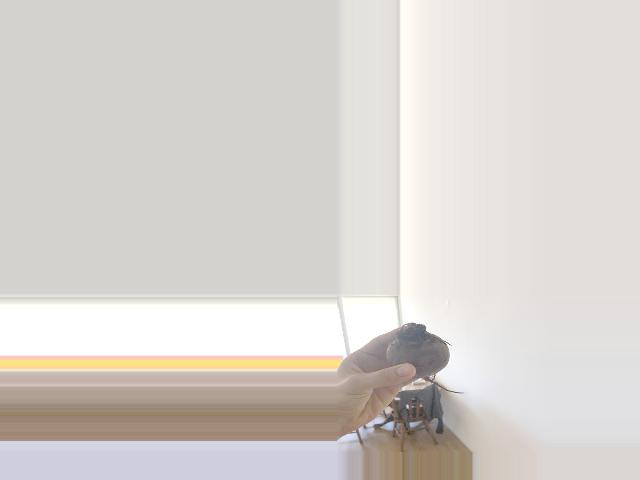beet: (386, 322, 467, 393)
